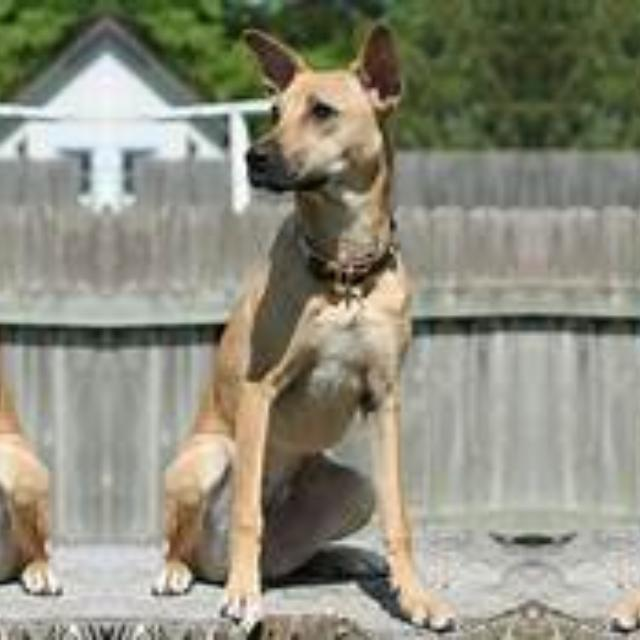dog: (163, 36, 517, 640), (548, 36, 640, 640), (0, 36, 49, 640)
